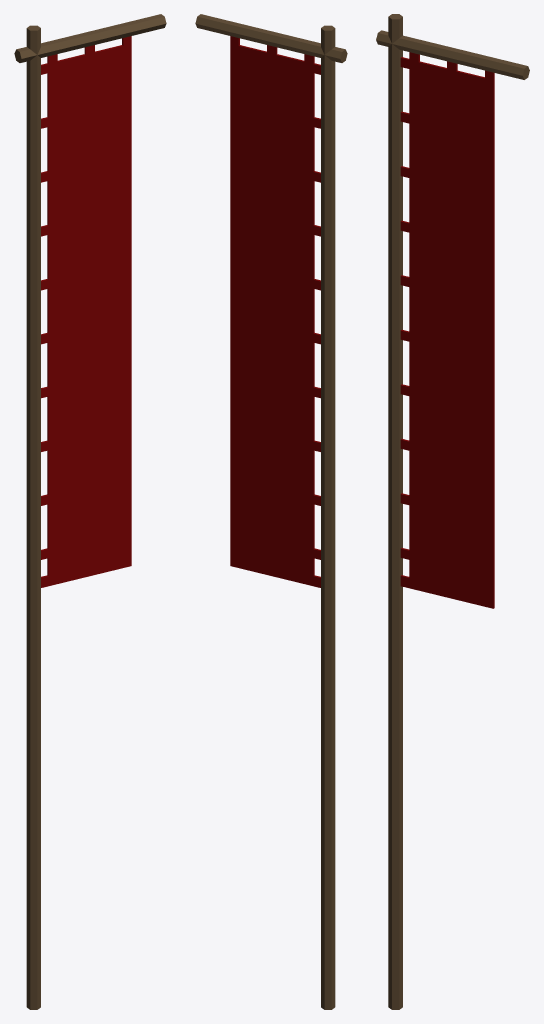
Rendered from Asian_Prop_Field_Castle_Flag_01.FBX.
3 views of the same model, side by side, from view 1: azimuth 30°, elevation 25°; view 2: azimuth 150°, elevation 25°; view 3: azimuth 330°, elevation 25° (orthographic).
Visible parts, largest first — view 1: Asian_Prop_Field_Castle_Flag_01; view 2: Asian_Prop_Field_Castle_Flag_01; view 3: Asian_Prop_Field_Castle_Flag_01.
Part boxes in pixels (bbox=[...]): Asian_Prop_Field_Castle_Flag_01: bbox=[14, 14, 166, 1009]; Asian_Prop_Field_Castle_Flag_01: bbox=[195, 14, 347, 1009]; Asian_Prop_Field_Castle_Flag_01: bbox=[376, 14, 529, 1009].
Size of the model in its own units: 912 by 5886 by 78.52.
